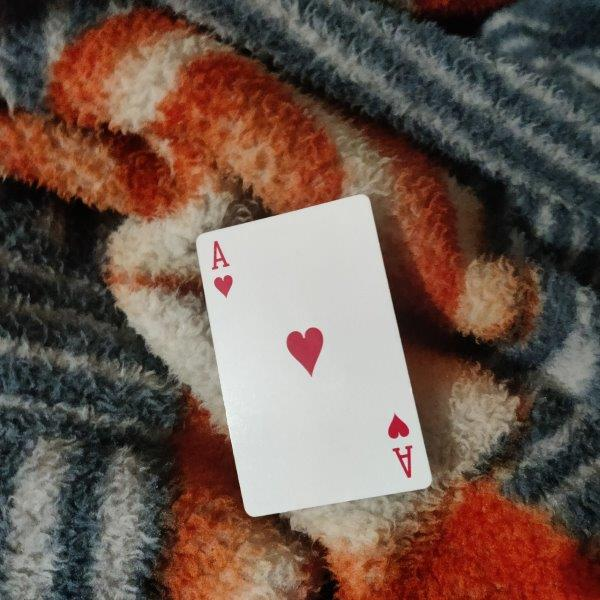Ace of Hearts: (196, 193, 434, 518)
